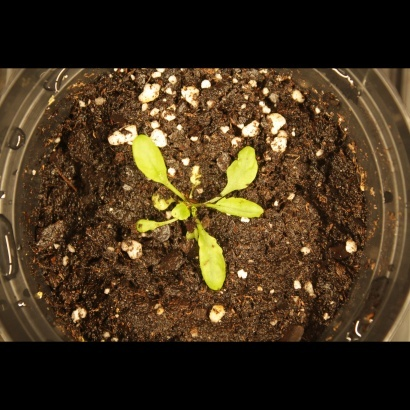leaf: (194, 226, 235, 294), (131, 127, 172, 188), (225, 143, 260, 198), (210, 196, 270, 219), (133, 214, 162, 243), (149, 184, 174, 210), (177, 222, 200, 245), (171, 200, 194, 223)
